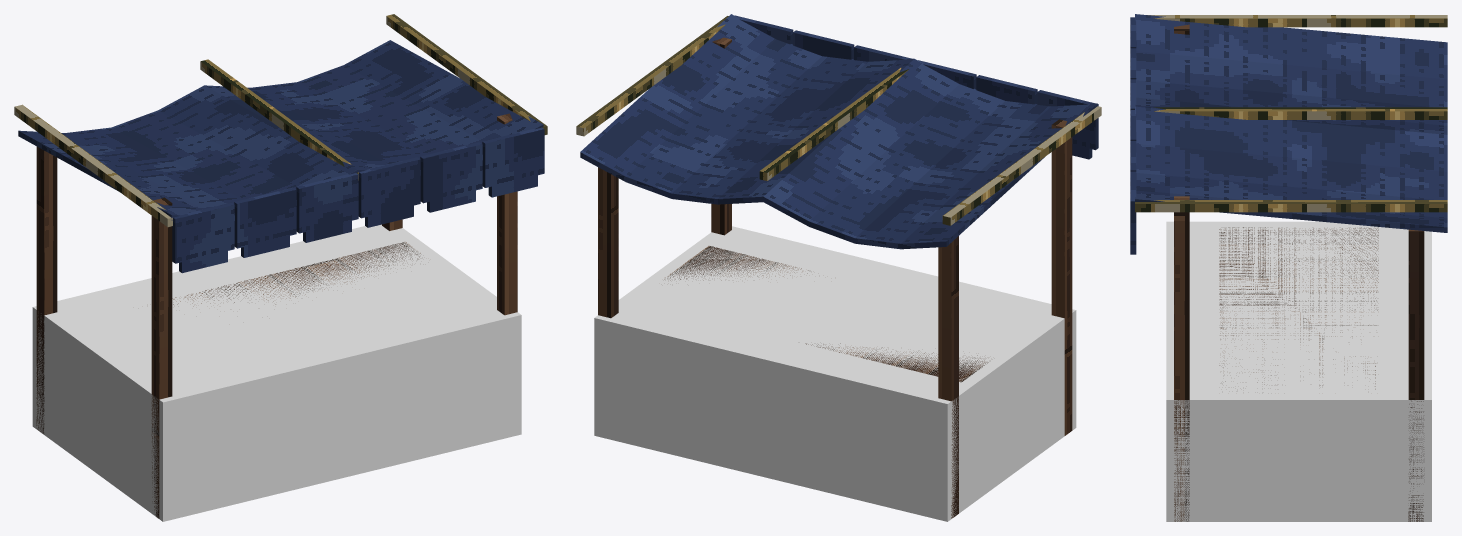
The model's file is JP_Prop_MarketStall_B.glb.
The picture shows the model from 3 angles, left to right: view 1: azimuth 30°, elevation 25°; view 2: azimuth 150°, elevation 25°; view 3: azimuth 270°, elevation 25°; orthographic projection. The views are drawn at different scales.
Parts seen in each view (by area): view 1: COL_JP_Prop_MarketStall_B, JP_Prop_MarketStall_B; view 2: COL_JP_Prop_MarketStall_B, JP_Prop_MarketStall_B; view 3: JP_Prop_MarketStall_B, COL_JP_Prop_MarketStall_B.
Part boxes in pixels (x1,y1,x2,y2): COL_JP_Prop_MarketStall_B: (32, 224, 521, 521); JP_Prop_MarketStall_B: (14, 14, 547, 518); COL_JP_Prop_MarketStall_B: (594, 226, 1076, 521); JP_Prop_MarketStall_B: (576, 14, 1101, 518); JP_Prop_MarketStall_B: (1130, 14, 1447, 521); COL_JP_Prop_MarketStall_B: (1166, 221, 1431, 521).
Size of the model in its own units: 2.86 by 2.3 by 2.03.
3 materials, 3 textured.
